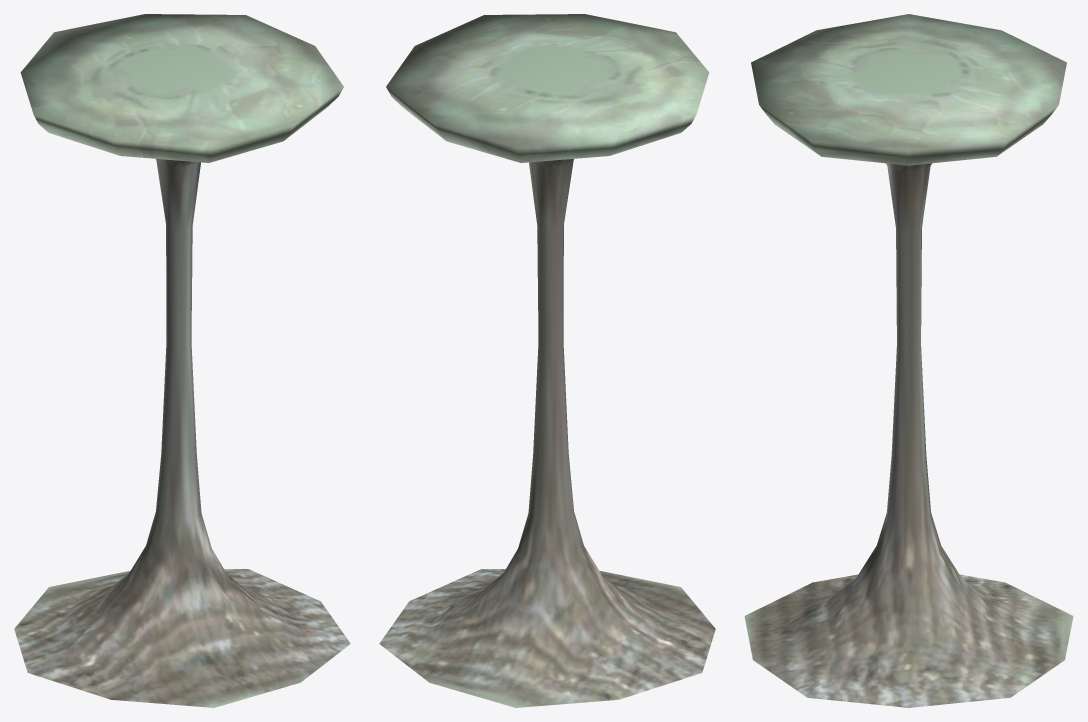
The model's file is INST_TROLLHOLE_SHELFSTONE4M.fbx.
3 renders of one model, left to right at view 1: azimuth 30°, elevation 25°; view 2: azimuth 150°, elevation 25°; view 3: azimuth 270°, elevation 25°, orthographic.
Parts seen in each view (by area): view 1: INST_TROLLHOLE_SHELFSTONE4M; view 2: INST_TROLLHOLE_SHELFSTONE4M; view 3: INST_TROLLHOLE_SHELFSTONE4M.
Part boxes in pixels (<box>): INST_TROLLHOLE_SHELFSTONE4M: <box>14,14,350,707</box>; INST_TROLLHOLE_SHELFSTONE4M: <box>379,14,715,707</box>; INST_TROLLHOLE_SHELFSTONE4M: <box>744,14,1073,707</box>.
Bounding box in the file's own units: 22112 × 41168 × 21582.
2 materials, 2 textured.
